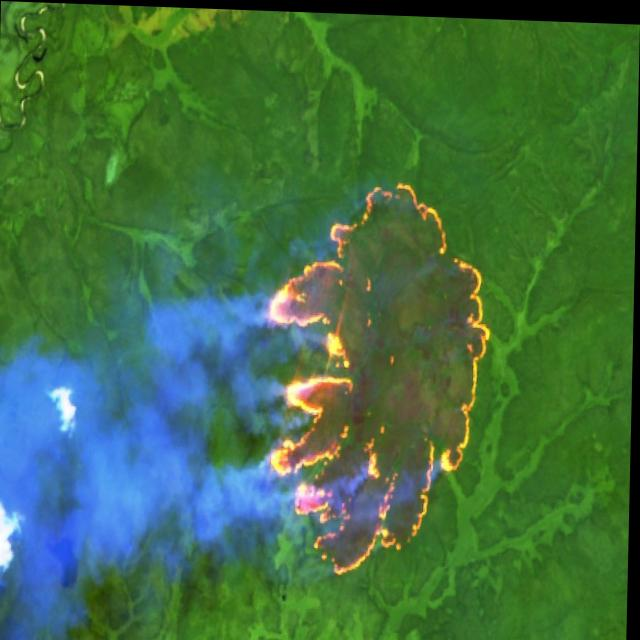fire: (260, 157, 499, 587)
